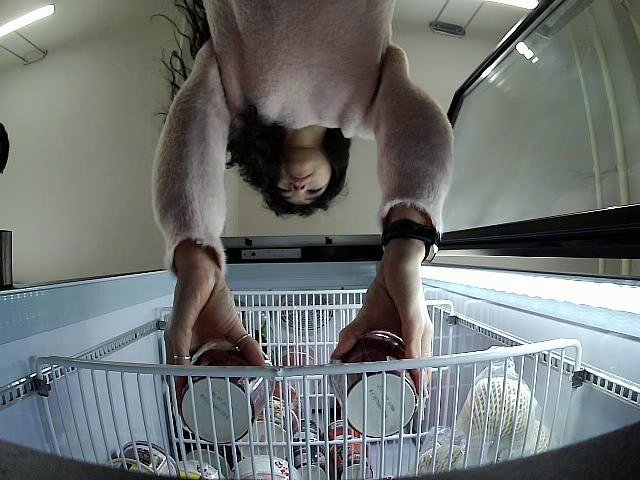00_hand: (163, 273, 274, 415), (329, 264, 436, 409)
06_nuguri_S: (324, 329, 420, 437), (176, 345, 271, 443)
